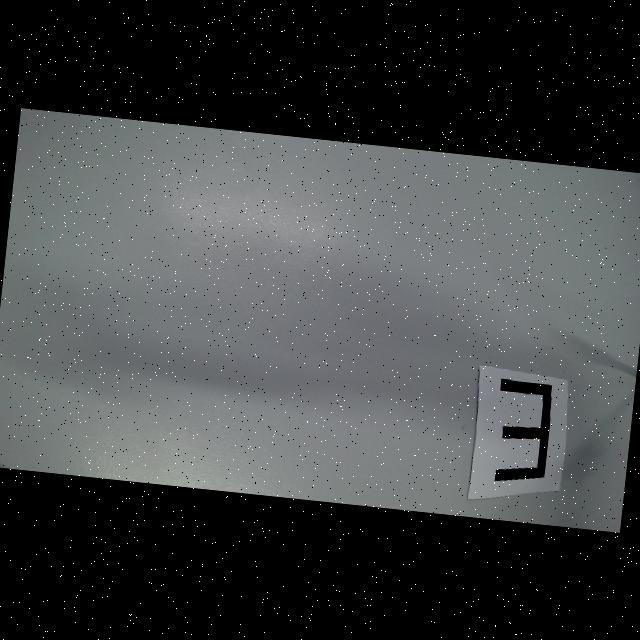FAKE: (489, 377, 554, 486)
